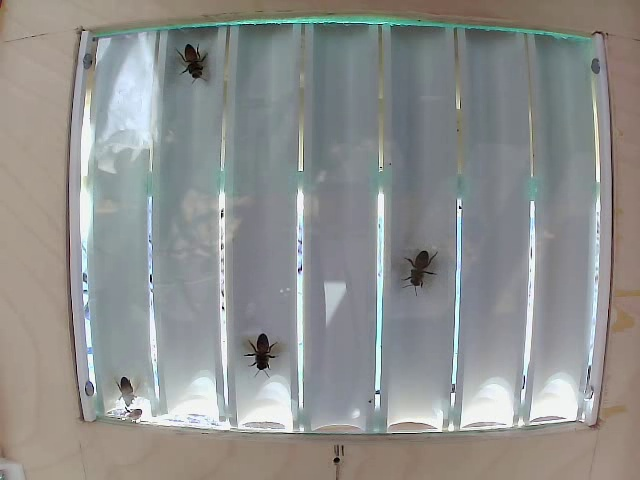bee: (396, 241, 442, 297), (249, 325, 286, 378), (177, 37, 215, 80)
